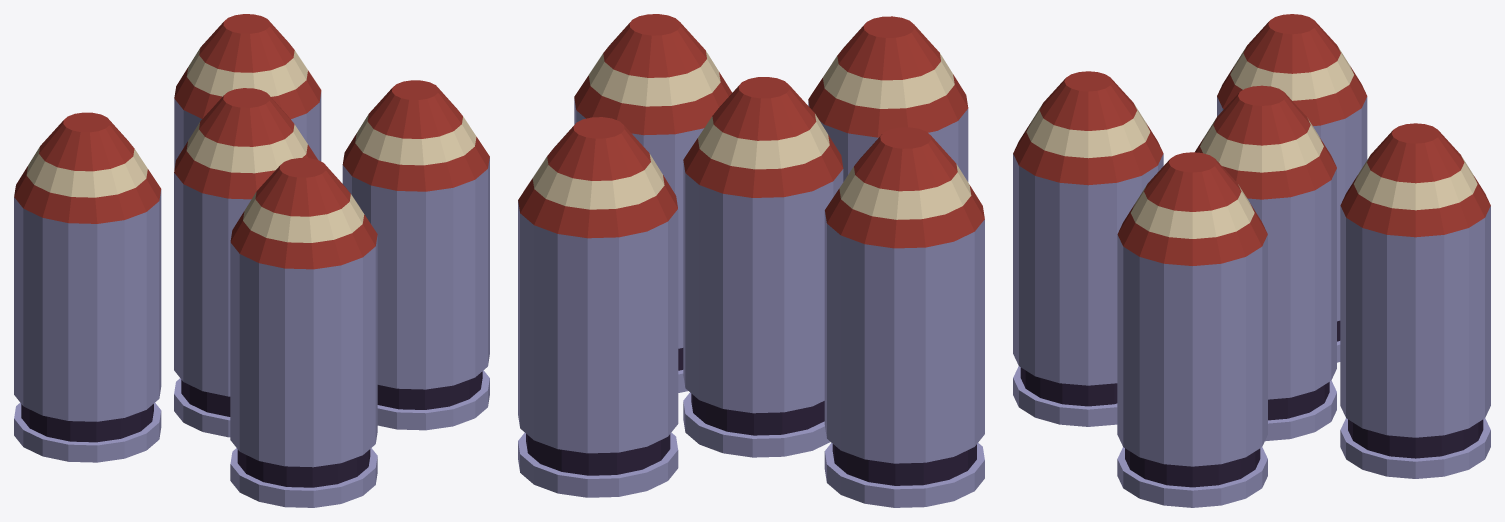
The model's file is gunAmmo.fbx.
3 renders of one model, left to right at view 1: azimuth 30°, elevation 25°; view 2: azimuth 150°, elevation 25°; view 3: azimuth 270°, elevation 25°, orthographic. The views are drawn at different scales.
Visible parts, largest first — view 1: Cylinder.003, Cylinder.004, Cylinder.002, Cylinder, Cylinder.001; view 2: Cylinder.001, Cylinder.003, Cylinder, Cylinder.002, Cylinder.004; view 3: Cylinder.001, Cylinder.002, Cylinder.004, Cylinder, Cylinder.003.
Part boxes in pixels (x1=…): Cylinder.003: x1=14, y1=112, x2=161, y2=462; Cylinder.004: x1=230, y1=158, x2=377, y2=507; Cylinder.002: x1=342, y1=80, x2=489, y2=430; Cylinder: x1=174, y1=88, x2=317, y2=437; Cylinder.001: x1=174, y1=14, x2=321, y2=169; Cylinder.001: x1=518, y1=117, x2=678, y2=497; Cylinder.003: x1=824, y1=127, x2=984, y2=507; Cylinder: x1=683, y1=77, x2=843, y2=457; Cylinder.002: x1=574, y1=14, x2=732, y2=392; Cylinder.004: x1=808, y1=16, x2=968, y2=181; Cylinder.001: x1=1340, y1=123, x2=1490, y2=478; Cylinder.002: x1=1117, y1=152, x2=1267, y2=507; Cylinder.004: x1=1013, y1=71, x2=1163, y2=426; Cylinder: x1=1195, y1=85, x2=1336, y2=441; Cylinder.003: x1=1217, y1=14, x2=1367, y2=362.
Bounding box in the file's own units: 67.96 × 49.21 × 67.99.
